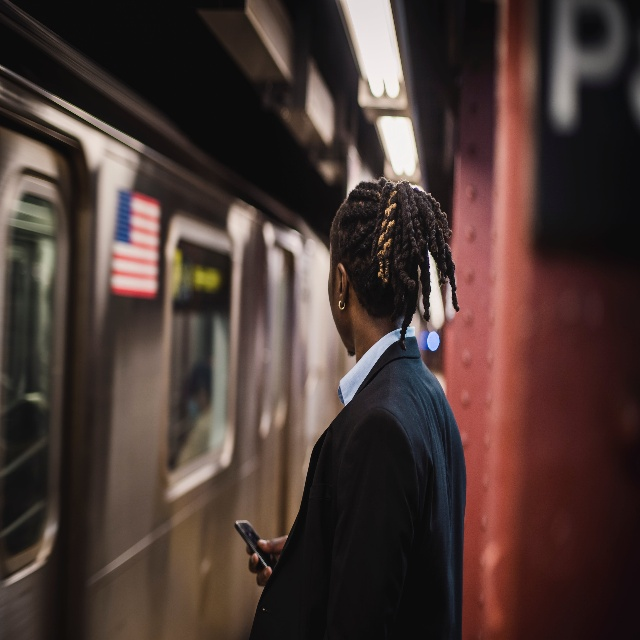Sin_guantes: (247, 538, 287, 581)
